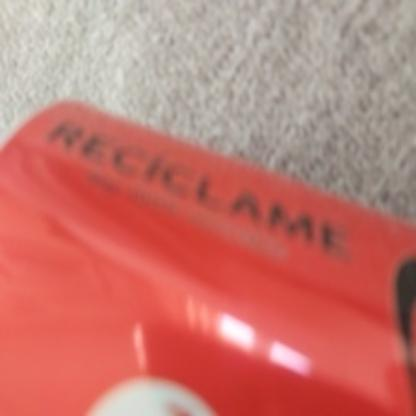Can: (0, 99, 416, 416)
